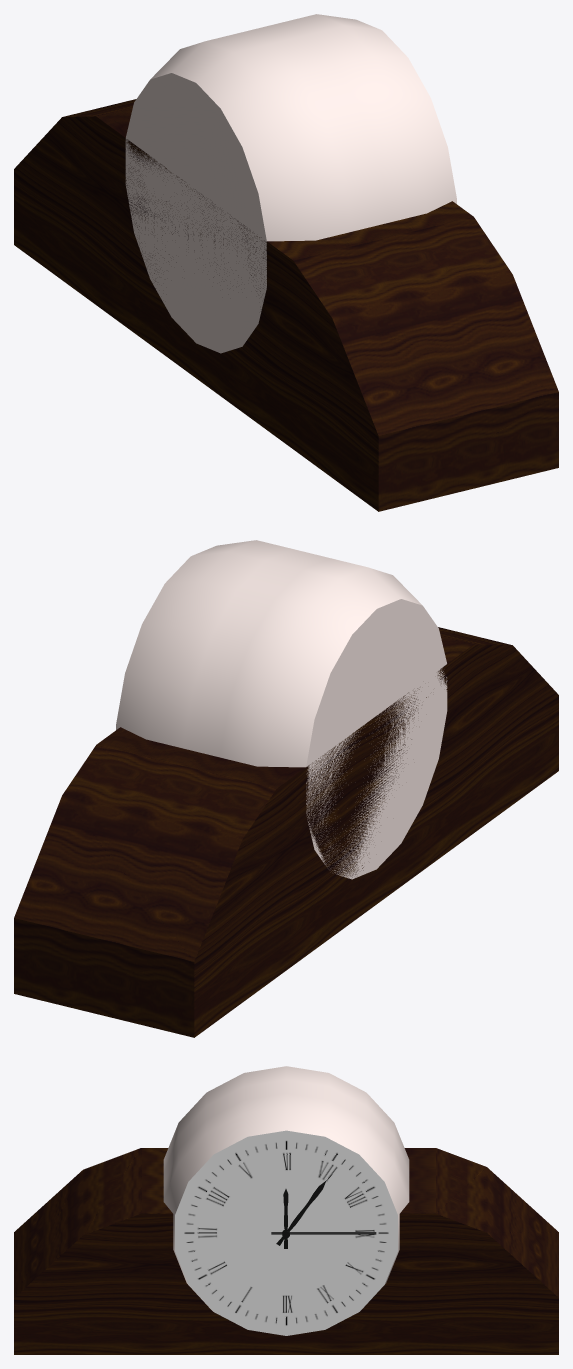
The model's file is FireplaceClock.FBX.
The picture shows the model from 3 angles, top to bottom: view 1: azimuth 30°, elevation 25°; view 2: azimuth 150°, elevation 25°; view 3: azimuth 270°, elevation 25°; orthographic projection. The views are drawn at different scales.
Parts seen in each view (by area): view 1: Box001; view 2: Box001; view 3: Box001.
Part boxes in pixels (left/top/right/bottom): Box001: left=14, top=14, right=558, bottom=511; Box001: left=14, top=540, right=558, bottom=1037; Box001: left=14, top=1066, right=558, bottom=1354.
Size of the model in its own units: 4.18 by 6.6 by 13.78.
5 materials, 2 textured.
